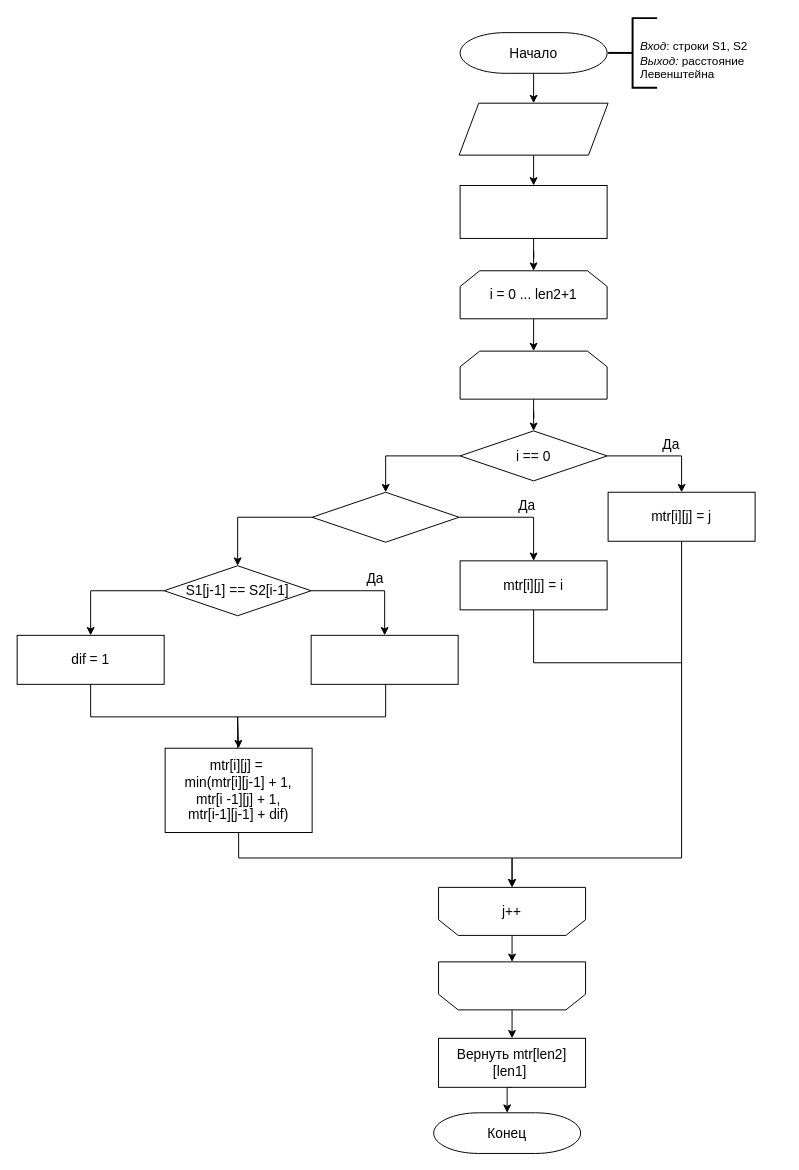
Image size: 799x1170. Some labels were removed from this diagram. Here are the shapes that lost their labels. From the top down, the centre of each, then its label:
At point 533,128: "len1 = длина S1 len2 = длина S2".
At point 533,211: "Cоздание матрицы mtr размером len1+1 на len2+1".
At point 533,374: "j = 0 ... len1+1".
At point 385,516: "j == 0".
At point 384,659: "dif = 0".
At point 512,985: "i++".
